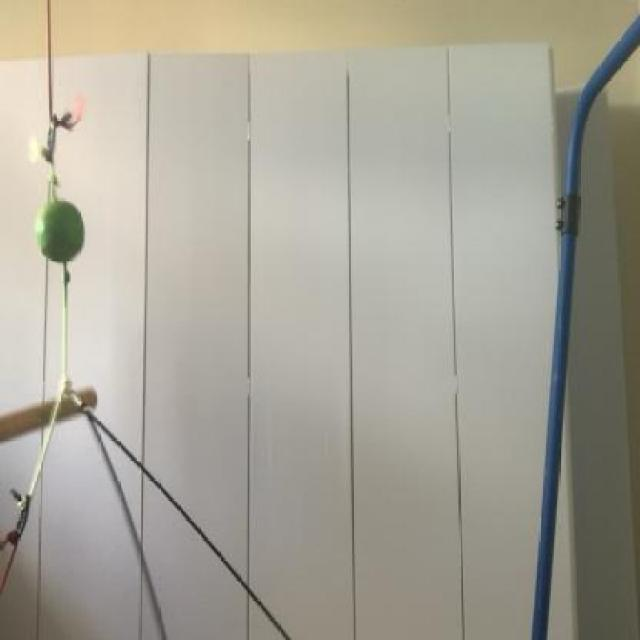baseball: (34, 192, 91, 262)
